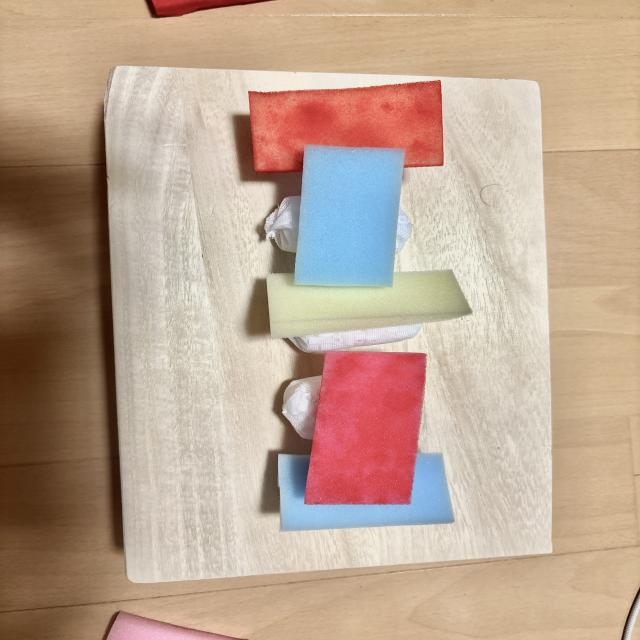NG: (283, 352, 426, 504), (265, 146, 412, 286), (267, 270, 471, 352)
ika: (279, 453, 454, 531)
salmon: (249, 80, 443, 172)
